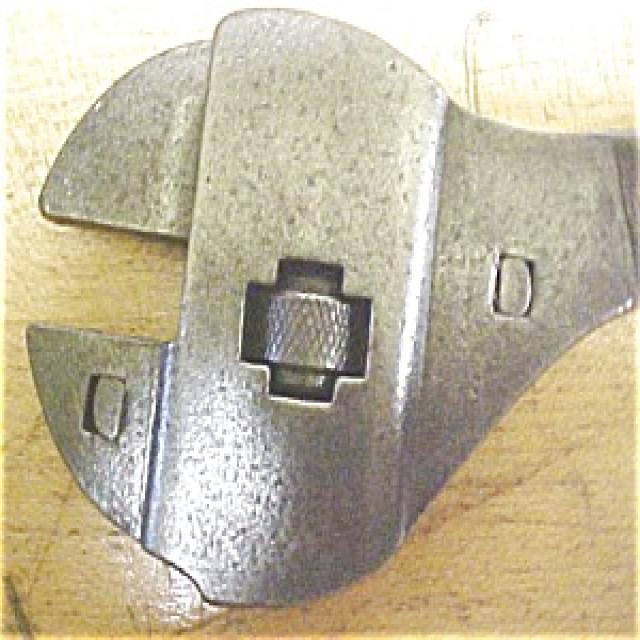wrench: (17, 3, 640, 609)
